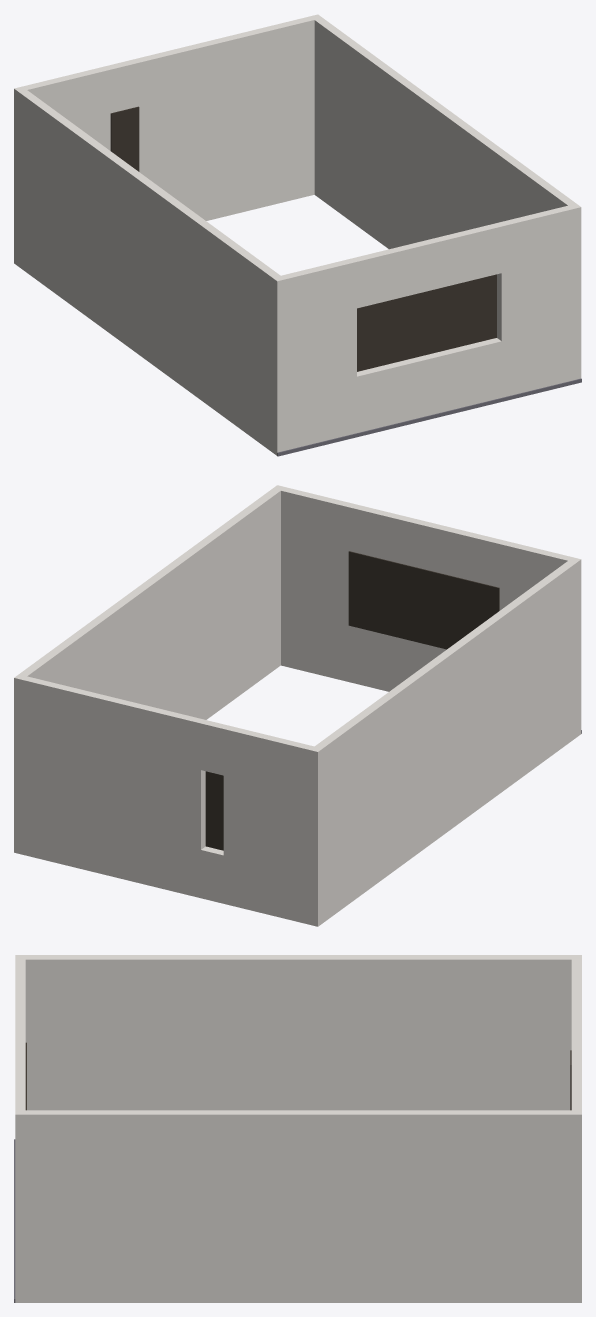
File: SM_Floor_NarrowUpperWindow_White_546_Back_01.gltf
The picture shows the model from 3 angles, top to bottom: view 1: azimuth 30°, elevation 25°; view 2: azimuth 150°, elevation 25°; view 3: azimuth 270°, elevation 25°; orthographic projection. The views are drawn at different scales.
Parts seen in each view (by area): view 1: SM_Floor_NarrowUpperWindow_White_546_Back_01; view 2: SM_Floor_NarrowUpperWindow_White_546_Back_01; view 3: SM_Floor_NarrowUpperWindow_White_546_Back_01.
Boxes of the visible parts, bbox=[...] form: SM_Floor_NarrowUpperWindow_White_546_Back_01: bbox=[14, 14, 581, 456]; SM_Floor_NarrowUpperWindow_White_546_Back_01: bbox=[14, 485, 581, 926]; SM_Floor_NarrowUpperWindow_White_546_Back_01: bbox=[14, 955, 581, 1302].
Size of the model in its own units: 5.46 by 3 by 8.21.
1 material, 1 textured.
